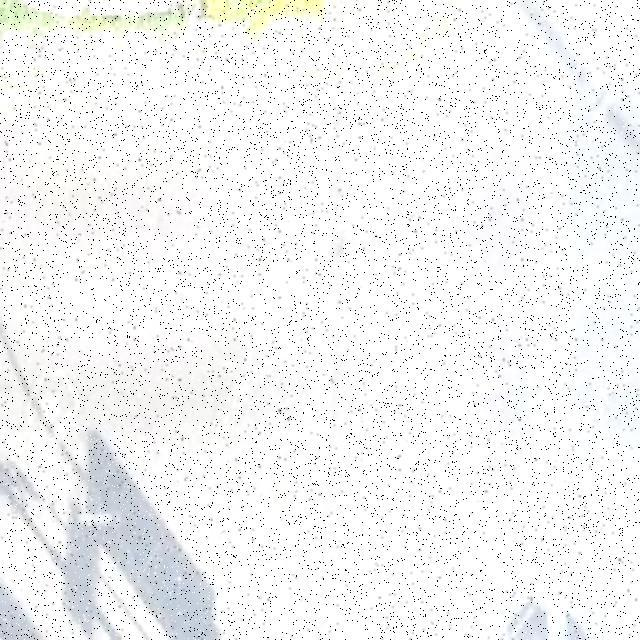crosswalk: (317, 57, 511, 637)
